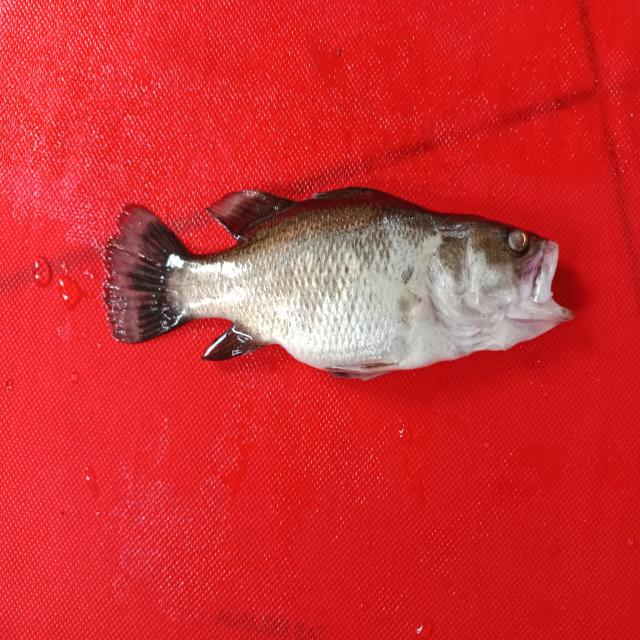ikan: (87, 148, 588, 396)
